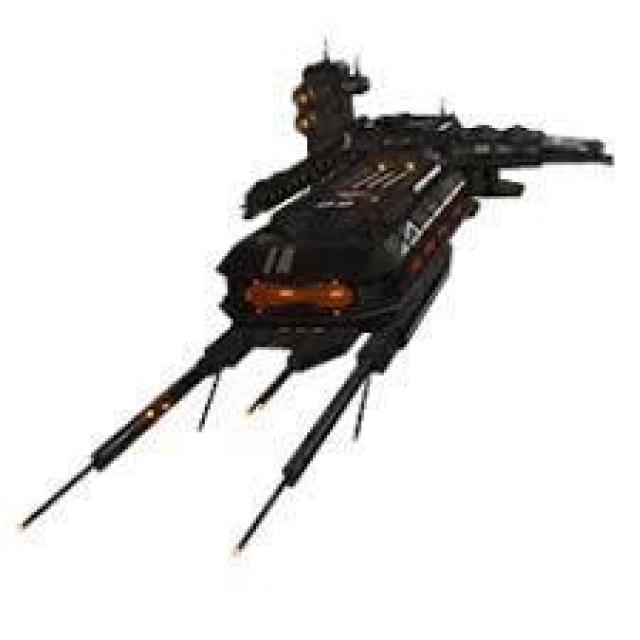Tanks: (189, 40, 607, 589)
